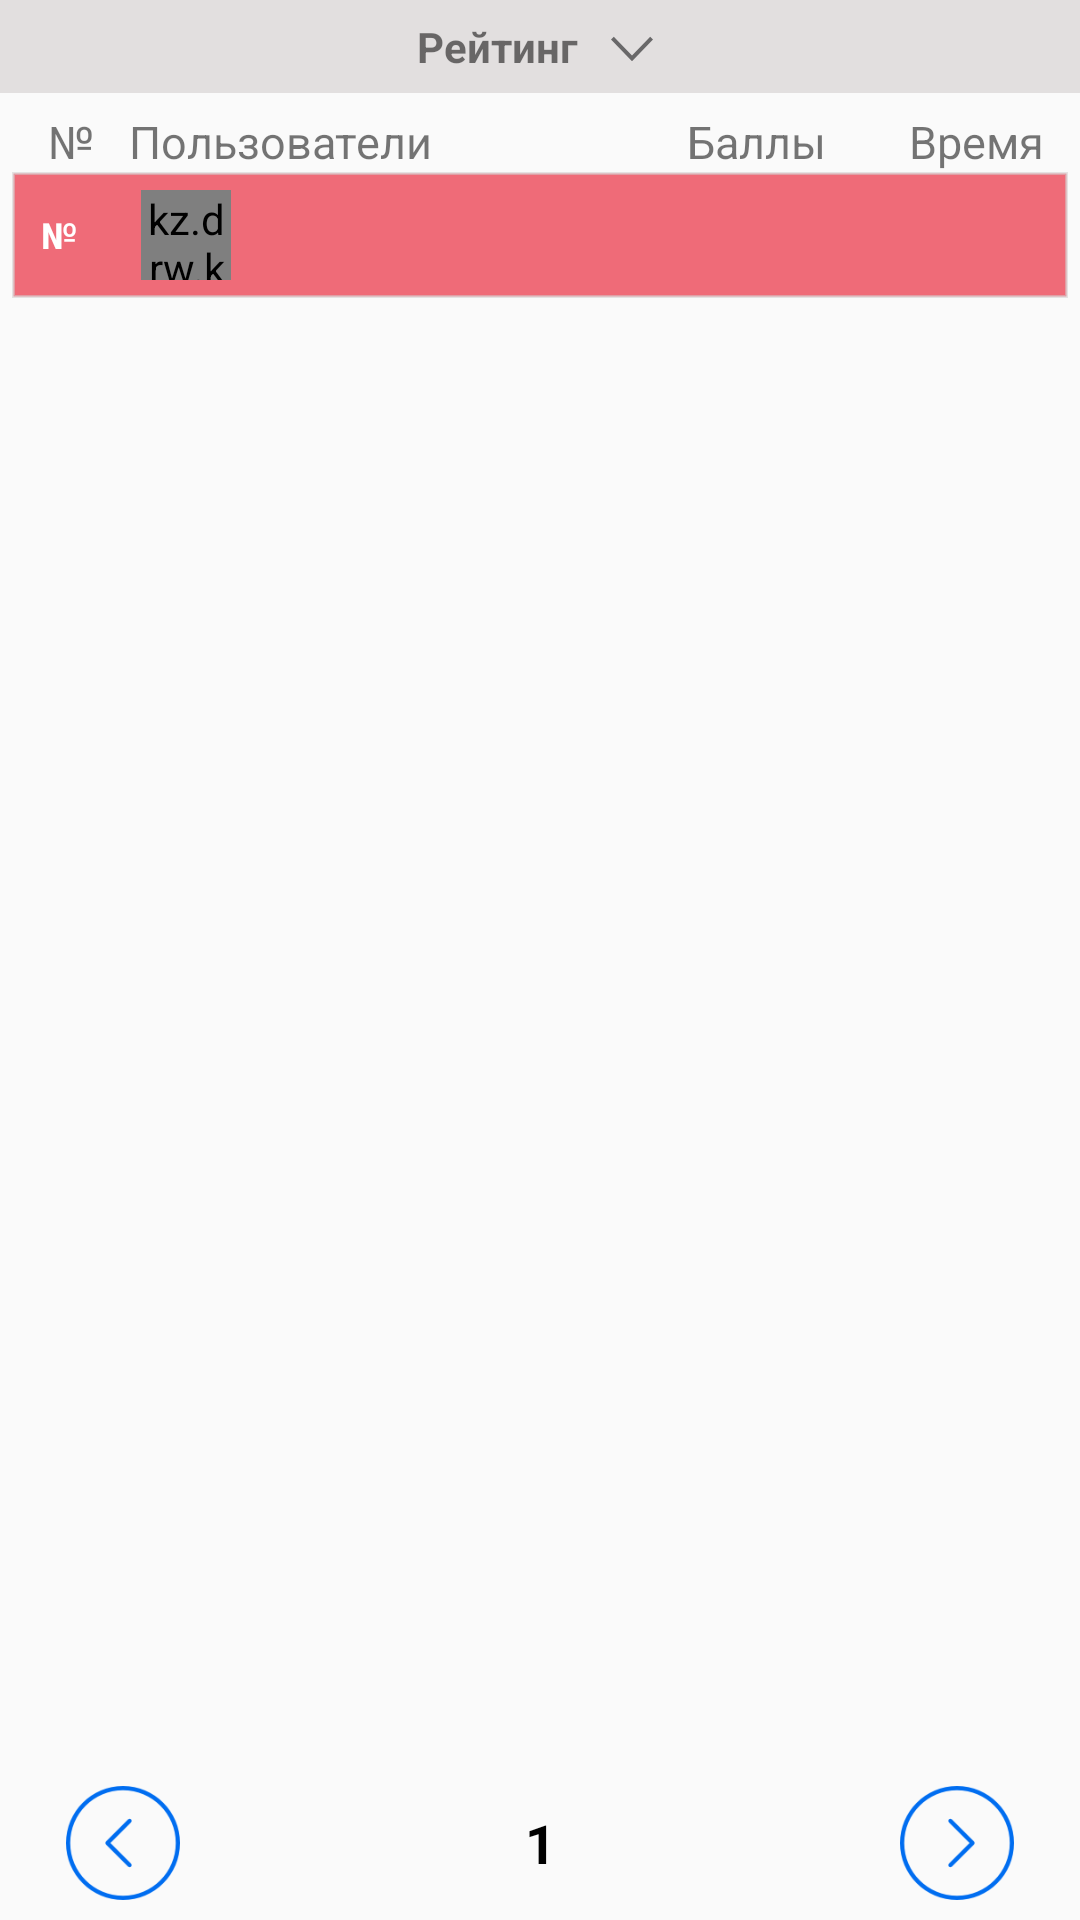

Where to tap for icons on this 1080 x 1920 app screen, as (x,y):
down: (632,49)
